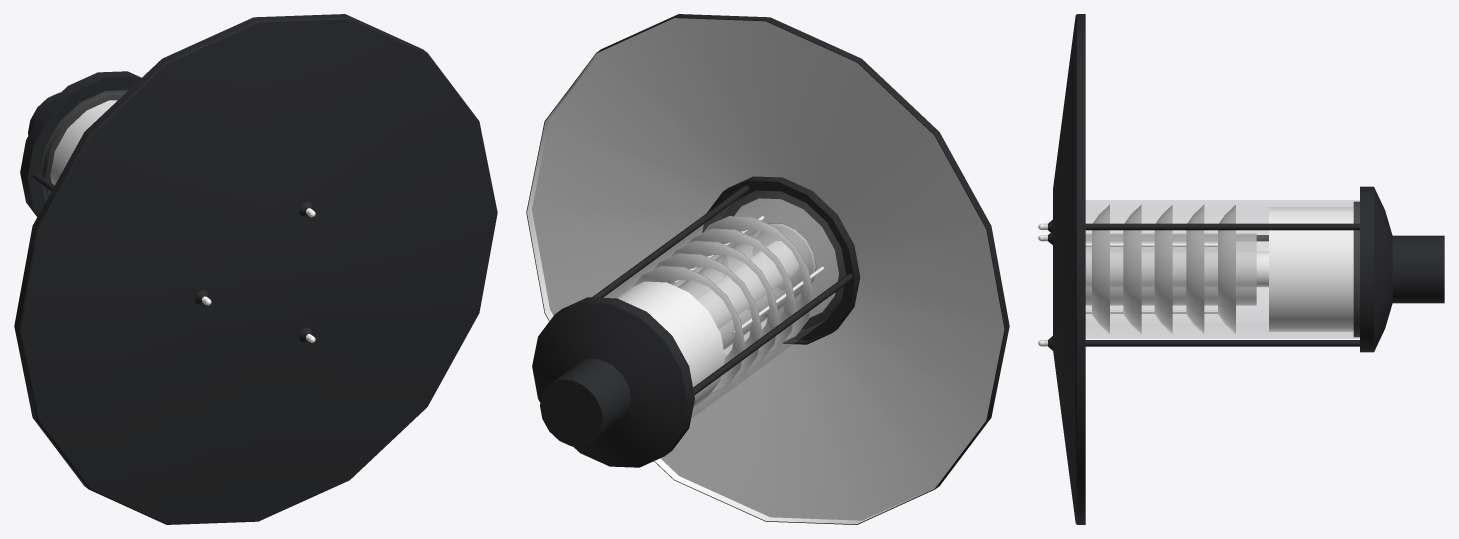
The model's file is Richard_VIII.obj.
3 renders of one model, left to right at view 1: azimuth 30°, elevation 25°; view 2: azimuth 150°, elevation 25°; view 3: azimuth 270°, elevation 25°, orthographic. The views are drawn at different scales.
Visible parts, largest first — view 1: BezierCurve.001, Glas, BezierCurve.003; view 2: BezierCurve.001, Glas, BezierCurve.003; view 3: BezierCurve.001, Glas, BezierCurve.003.
Part boxes in pixels (box(x1,y1,x2,y2)): BezierCurve.001: box(14, 14, 497, 524); Glas: box(41, 90, 127, 199); BezierCurve.003: box(33, 173, 315, 342); BezierCurve.001: box(526, 14, 1009, 524); Glas: box(603, 191, 845, 418); BezierCurve.003: box(592, 185, 852, 395); BezierCurve.001: box(1053, 14, 1444, 524); Glas: box(1086, 200, 1359, 338); BezierCurve.003: box(1038, 219, 1359, 350).
Size of the model in its own units: 0.7518 by 0.7518 by 0.5975.
6 materials, 4 textured.
